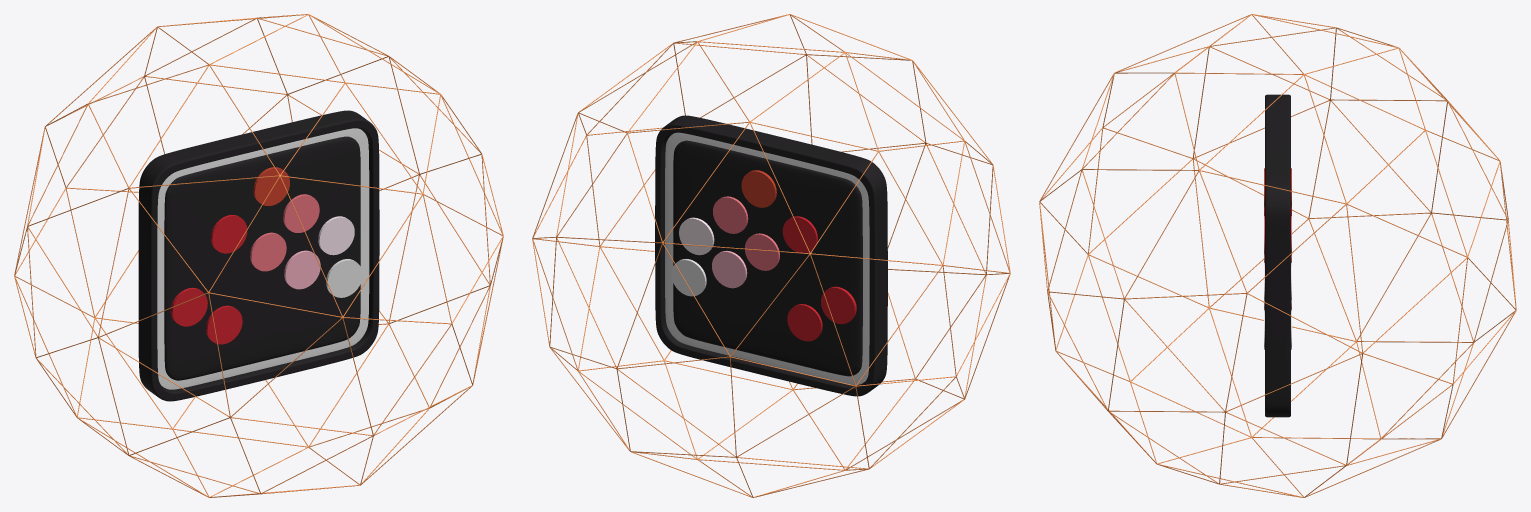
Rendered from scilab.glb.
3 renders of one model, left to right at view 1: azimuth 30°, elevation 25°; view 2: azimuth 150°, elevation 25°; view 3: azimuth 270°, elevation 25°, orthographic. The views are drawn at different scales.
Visible parts, largest first — view 1: Plane.011, wireframe, Plane.010, Plane.012, Circle.005, Circle.007, Circle.010, Circle.011, Circle.009, Circle.006, Circle.008, Circle.004 (+1 smaller); view 2: Plane.011, wireframe, Plane.010, Plane.012, Circle.003, Circle.005, Circle.006, Circle.009, Circle.008, Circle.011, Circle.010, Circle.007 (+1 smaller); view 3: wireframe, Plane.010.
Boxes of the visible parts, <box> form: Plane.011: <box>164,136,360,380</box>; wireframe: <box>14,14,503,497</box>; Plane.010: <box>138,110,379,401</box>; Plane.012: <box>157,128,369,389</box>; Circle.005: <box>170,287,207,326</box>; Circle.007: <box>250,232,286,271</box>; Circle.010: <box>318,216,354,255</box>; Circle.011: <box>326,259,362,297</box>; Circle.009: <box>284,250,320,289</box>; Circle.006: <box>206,305,242,344</box>; Circle.008: <box>283,194,319,232</box>; Circle.004: <box>211,215,247,253</box>; Plane.011: <box>673,140,862,376</box>; wireframe: <box>532,14,1010,497</box>; Plane.010: <box>655,115,887,396</box>; Plane.012: <box>665,132,869,384</box>; Circle.003: <box>741,170,776,207</box>; Circle.005: <box>821,286,856,324</box>; Circle.006: <box>787,304,822,341</box>; Circle.009: <box>712,250,747,288</box>; Circle.008: <box>713,196,748,233</box>; Circle.011: <box>671,259,706,296</box>; Circle.010: <box>679,217,714,255</box>; Circle.007: <box>744,233,779,270</box>; wireframe: <box>1039,14,1516,497</box>; Plane.010: <box>1265,94,1290,417</box>.
Bounding box in the file's own units: 2.58 × 2.57 × 2.63.
